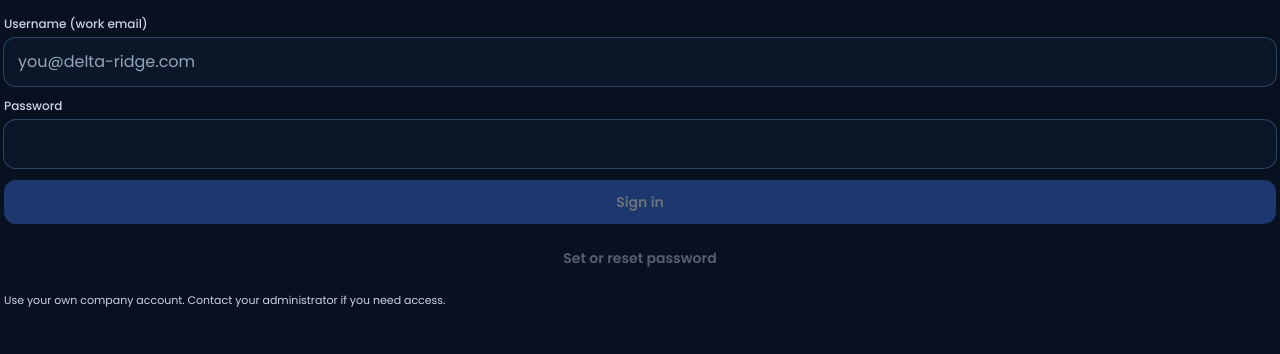
Test: offers recovery with a non-enumerating confirmation
Type "rep@example.com" into the field labelled "Username (work email)" at (640, 62), box x1=4 y1=38 x2=1276 y2=86
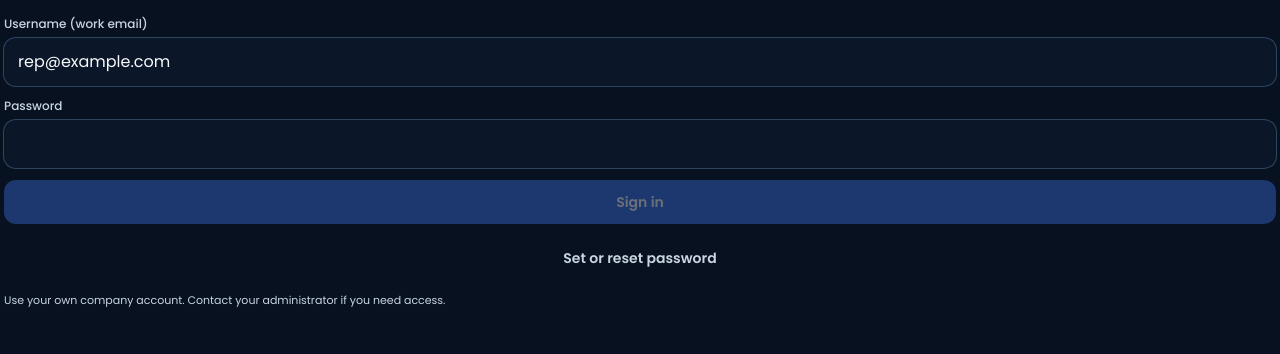
Click the button "Set or reset password" at (640, 258), box x1=4 y1=236 x2=1276 y2=280
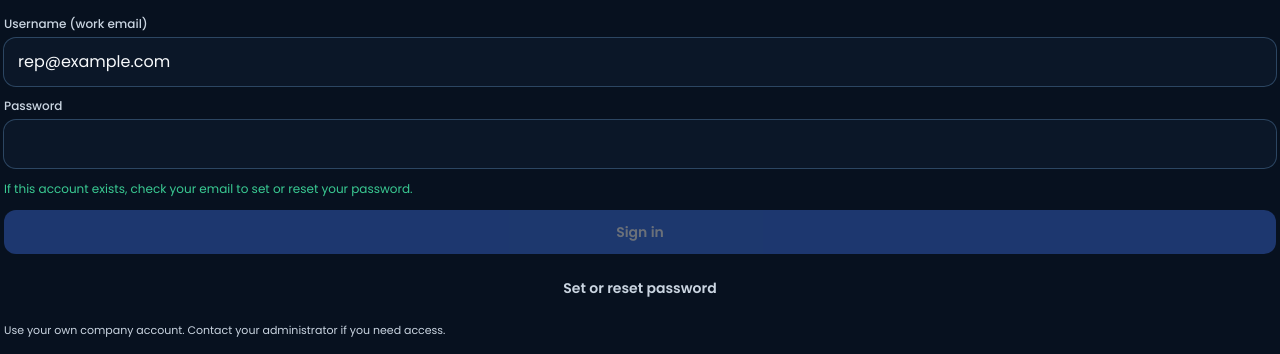
Expected: the message shows "If this account exists", x1=4 y1=180 x2=413 y2=197
